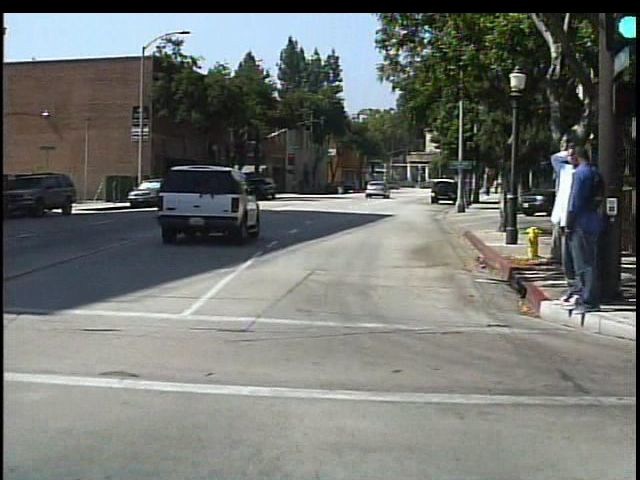person: (561, 143, 601, 316), (543, 144, 584, 309), (333, 175, 347, 196)
